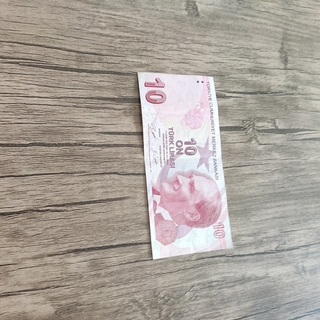10TLFront: (136, 71, 234, 259)
